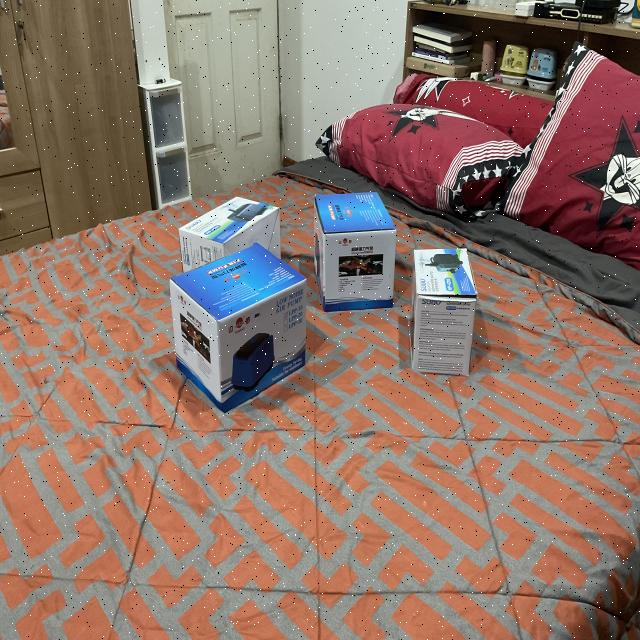SOBO_WP_4200: (176, 172, 290, 302), (406, 232, 492, 392)
YAMANO_LPP_20: (160, 228, 316, 402), (304, 168, 404, 311)
